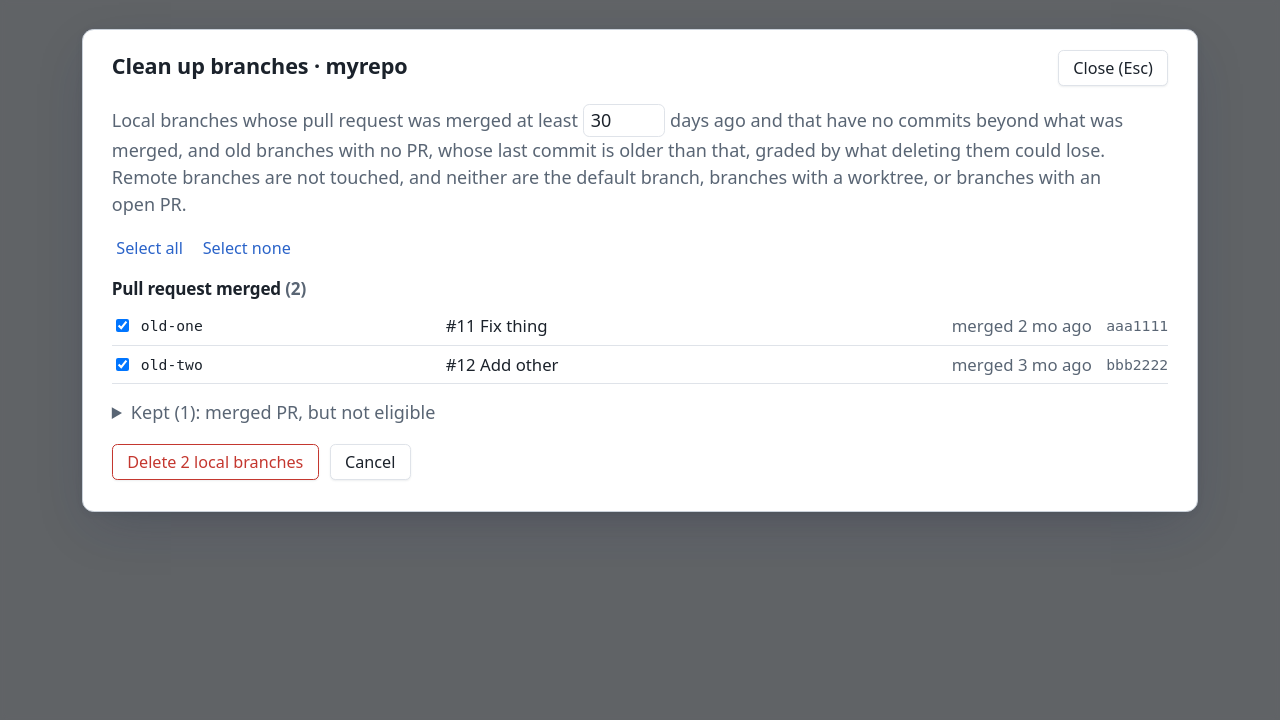
Scenario: CleanupModal › updates the count as branches are unticked and disables delete at zero
What coordinates should you click on to do the following:
click the checkbox labelled "old-one"
I would click on:
 (122, 326)
Its box is [116,319,129,332].
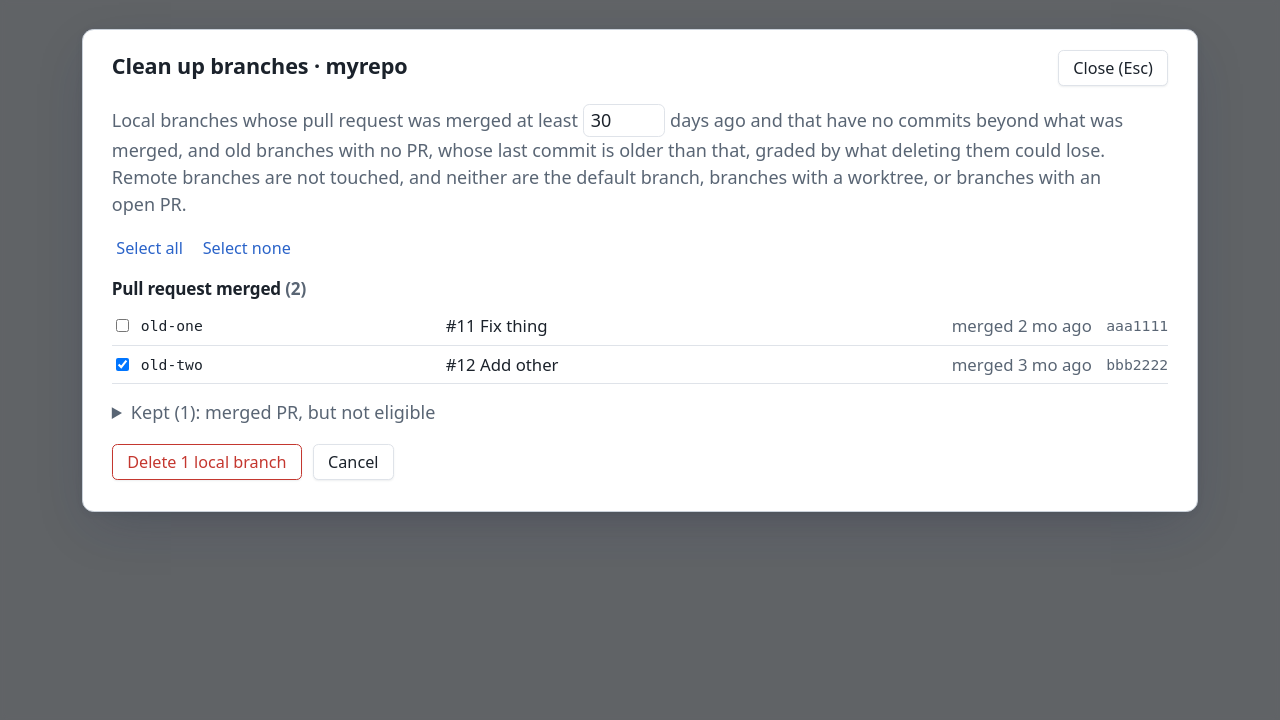
Check: the text "branches" is not shown
Check: the button "Delete 1 local branch" is shown, box [112,444,302,480]
What coordinates should you click on to do the following:
click the checkbox labelled "old-two"
I would click on:
 (122, 365)
Its box is [116,358,129,371].
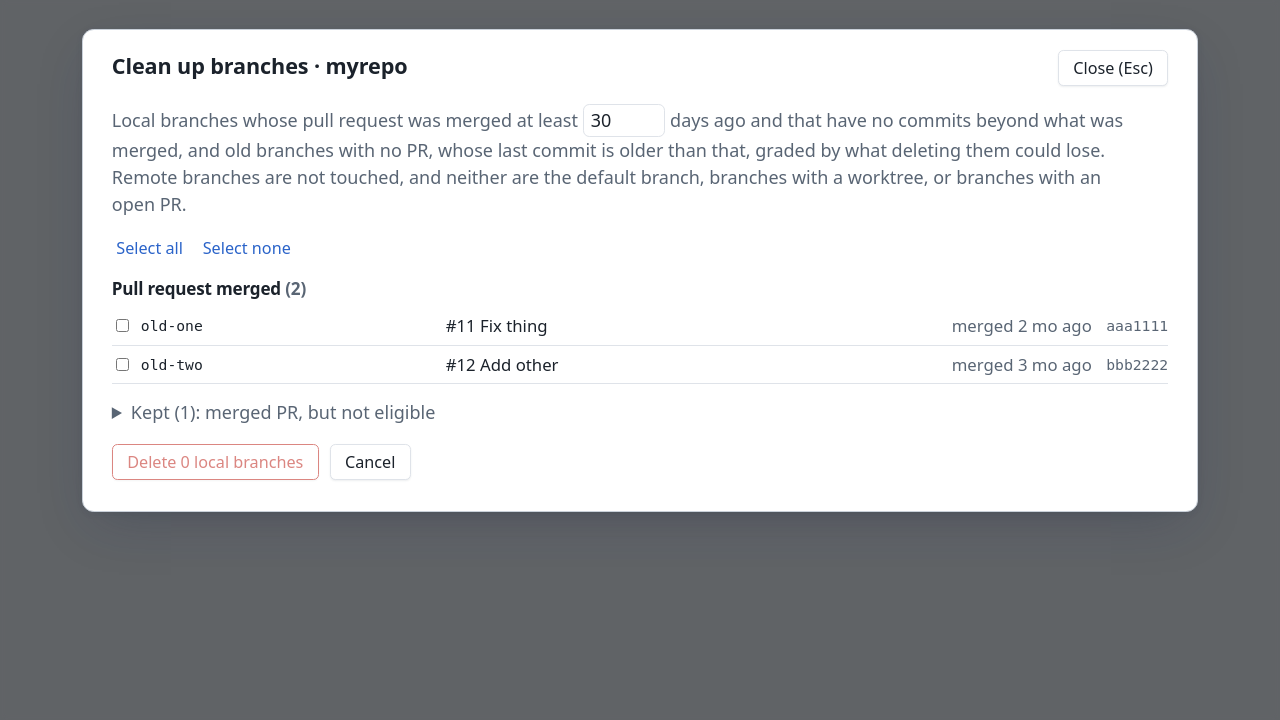
Check: the button "Delete 0 local branches" is disabled, box [112,444,319,480]
What coordinates should you click on to do the following:
click the button "Select all"
I would click on:
 (150, 248)
Its box is [112,236,187,260].
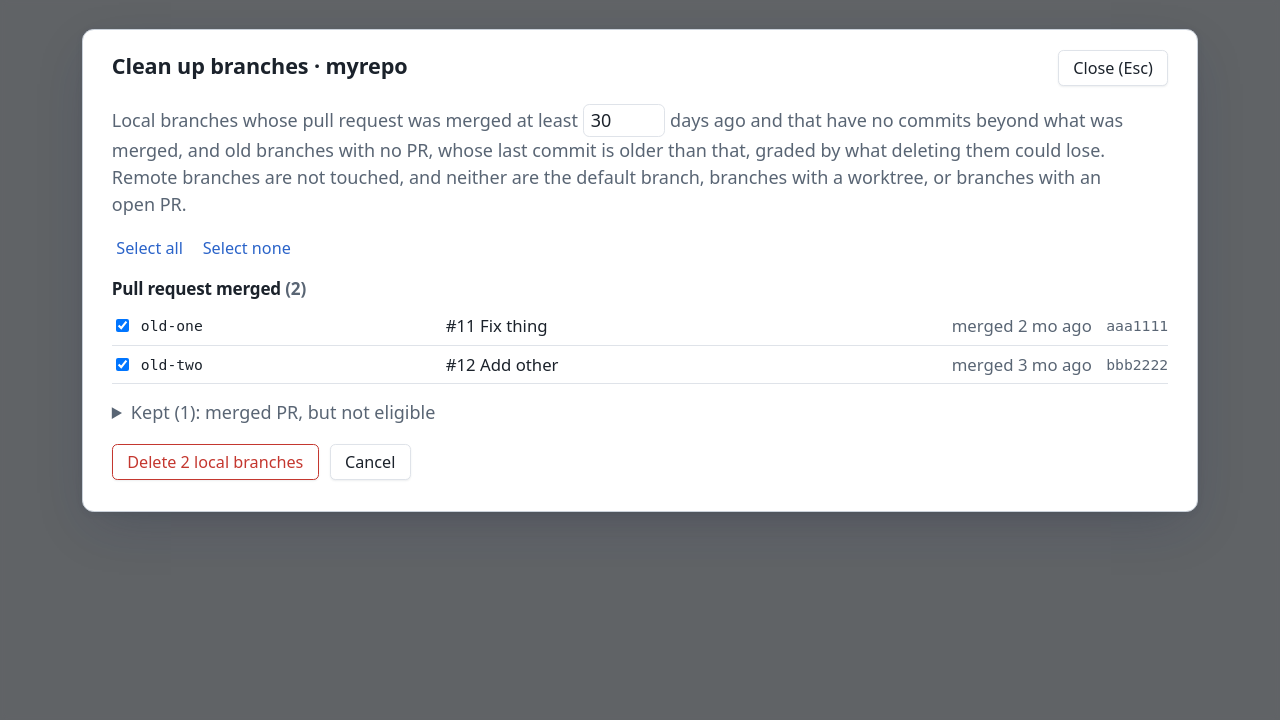
Check: the button "Delete 2 local branches" is shown, box [112,444,319,480]
What coordinates should you click on to do the following:
click the button "Select none"
I would click on:
 (247, 248)
Its box is [198,236,295,260].
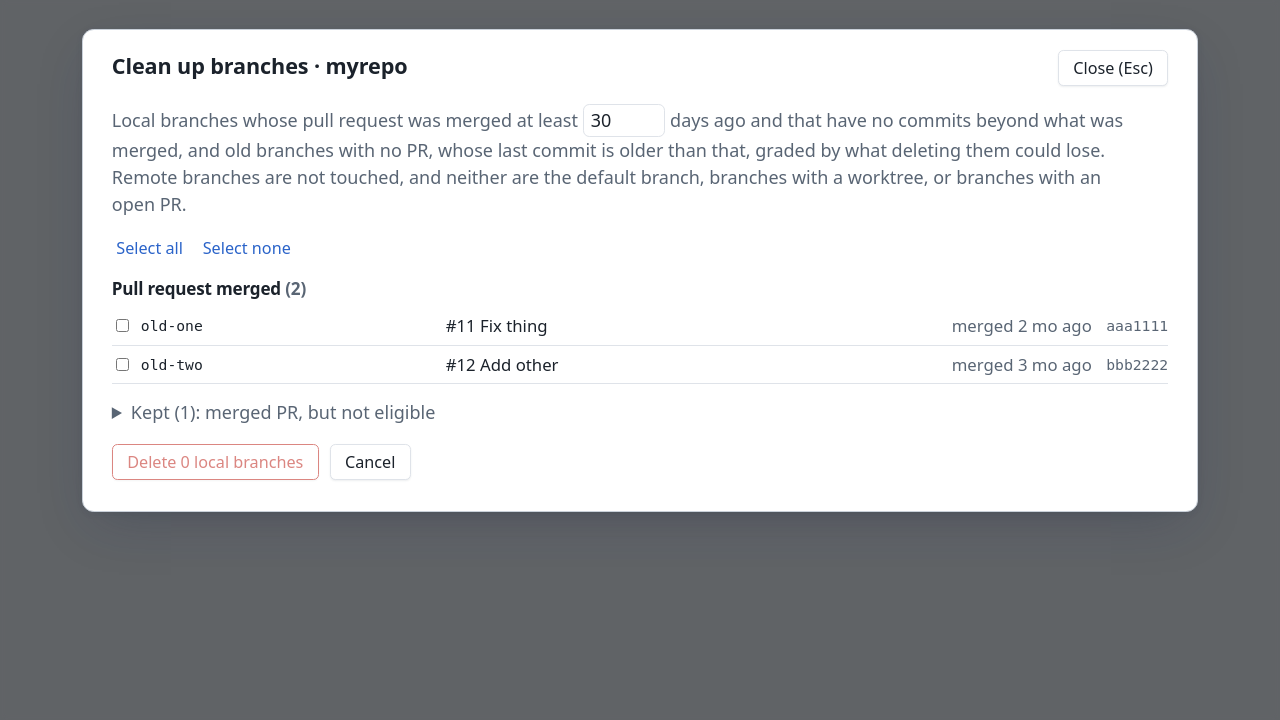
Check: the button "Delete 0 local branches" is disabled, box [112,444,319,480]
